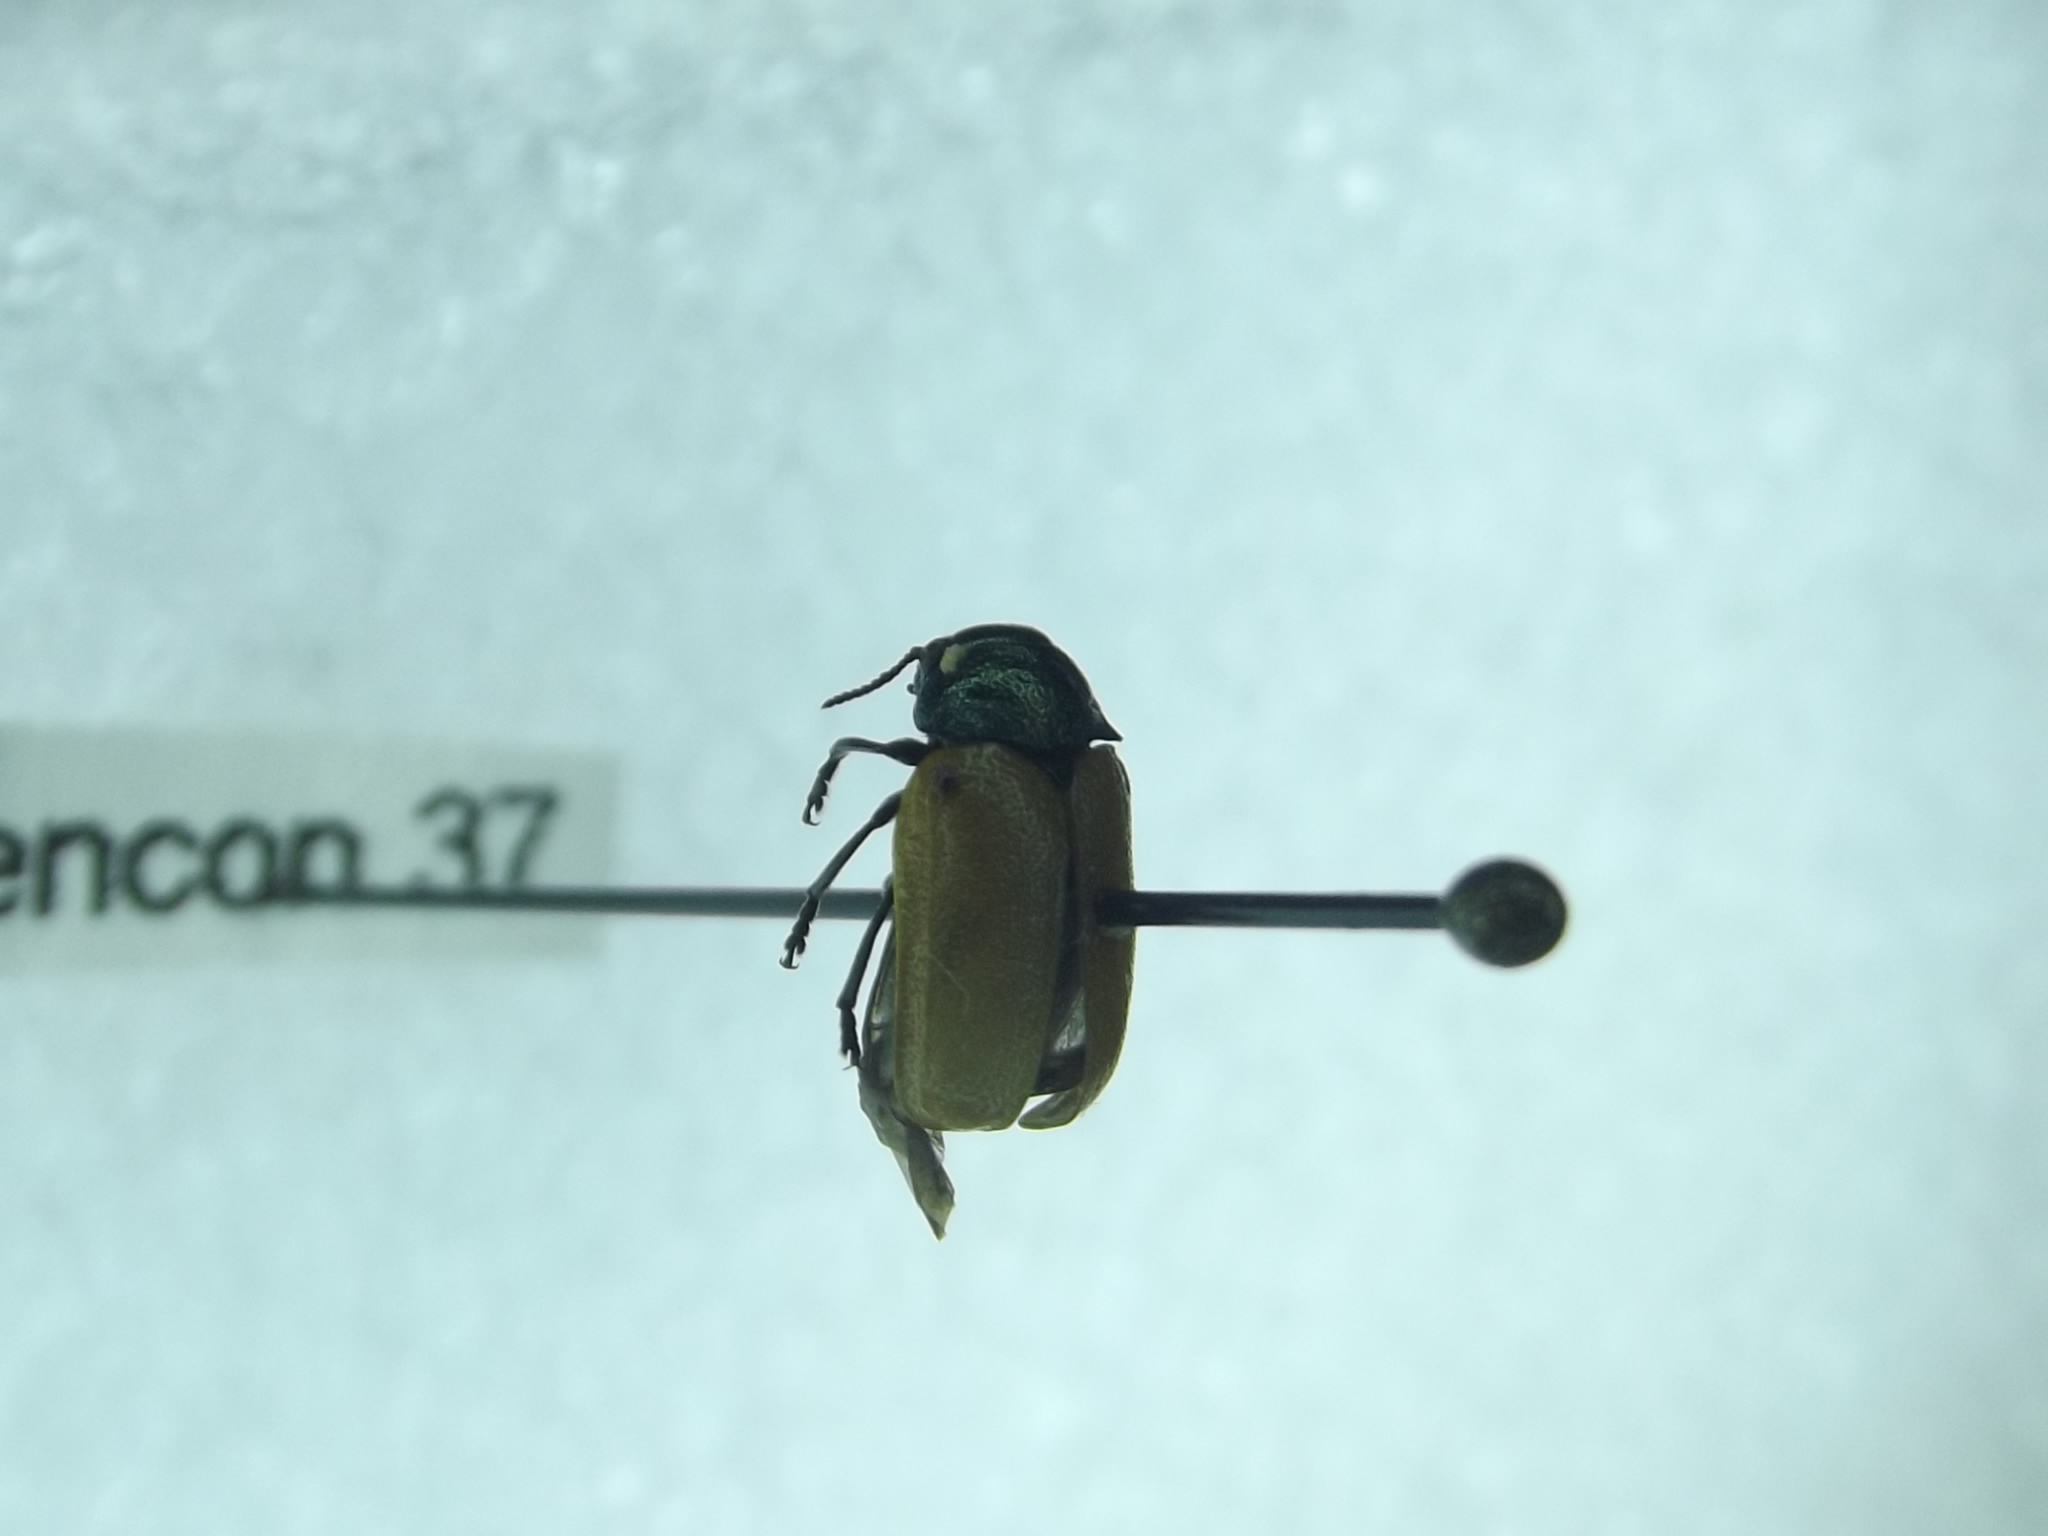Labidostomis_longimana: (779, 605, 1147, 1250)
